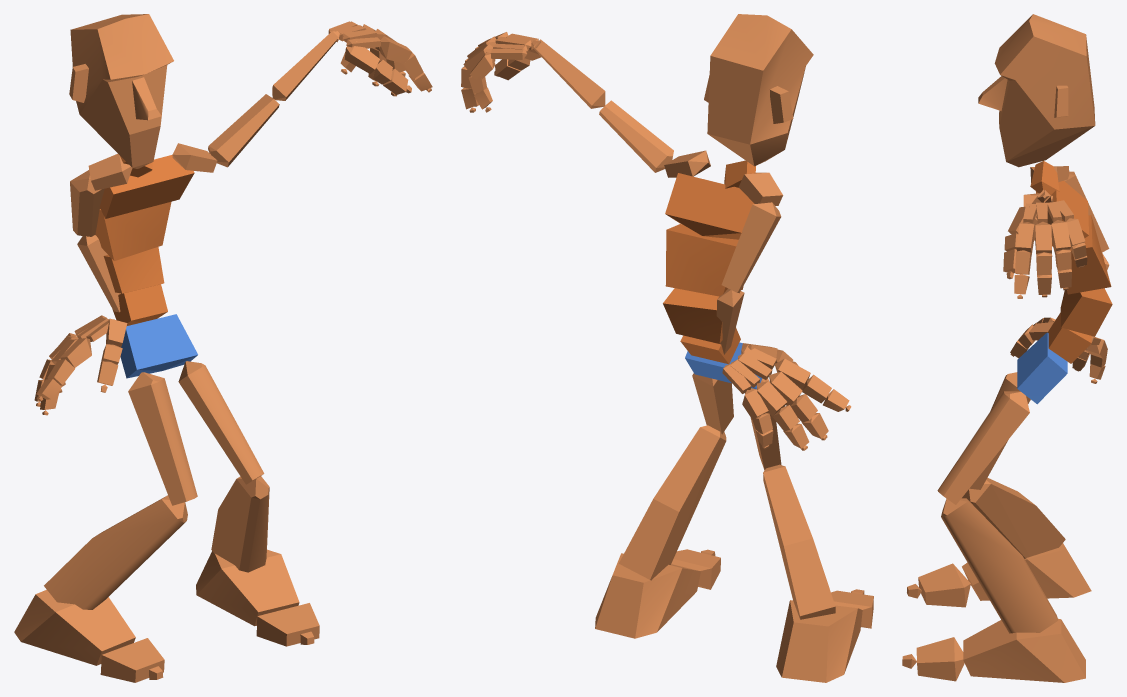
The model's file is personaje331.obj.
3 renders of one model, left to right at view 1: azimuth 30°, elevation 25°; view 2: azimuth 150°, elevation 25°; view 3: azimuth 270°, elevation 25°, orthographic. The views are drawn at different scales.
Visible parts, largest first — view 1: BOPED_Head, BOPED_R_leg, BOPED_R_foot, BOPED_R_foot01, BOPED_R_legup, BOPED_L_leg, BOPED_L_legup, Bone01, Bone05, Bone04, BOPED_L_arm_upper, BOPED_R_foot_toe01 (+9 smaller); view 2: BOPED_Head, BOPED_L_leg, BOPED_R_foot01, BOPED_R_leg, BOPED_R_foot, Bone05, Bone04, BOPED_R_arm_upper, Bone03, BOPED_L_arm_upper, BOPED_L_legup, BOPED_L_arm_fore (+8 smaller); view 3: BOPED_Head, BOPED_L_leg, BOPED_R_foot01, BOPED_R_leg, BOPED_L_legup, BOPED_R_foot, Bone01, Bone03, BOPED_R_foot_toe01, BOPED_R_foot_toe04, Bone04, Bone02 (+11 smaller).
Boxes of the visible parts, x1=… form: BOPED_Head: x1=69, y1=14, x2=173, y2=168; BOPED_R_leg: x1=44, y1=495, x2=187, y2=609; BOPED_R_foot: x1=14, y1=589, x2=135, y2=665; BOPED_R_foot01: x1=196, y1=549, x2=299, y2=626; BOPED_R_legup: x1=128, y1=372, x2=197, y2=505; BOPED_L_leg: x1=211, y1=476, x2=269, y2=572; BOPED_L_legup: x1=178, y1=361, x2=264, y2=484; Bone01: x1=120, y1=314, x2=197, y2=378; Bone05: x1=99, y1=155, x2=194, y2=218; Bone04: x1=95, y1=201, x2=171, y2=260; BOPED_L_arm_upper: x1=208, y1=94, x2=279, y2=167; BOPED_R_foot_toe01: x1=100, y1=638, x2=164, y2=682; BOPED_Head: x1=704, y1=14, x2=813, y2=166; BOPED_L_leg: x1=619, y1=425, x2=726, y2=580; BOPED_R_foot01: x1=595, y1=553, x2=700, y2=638; BOPED_R_leg: x1=763, y1=464, x2=835, y2=619; BOPED_R_foot: x1=776, y1=600, x2=862, y2=682; Bone05: x1=665, y1=173, x2=754, y2=239; Bone04: x1=665, y1=224, x2=743, y2=296; BOPED_R_arm_upper: x1=721, y1=202, x2=781, y2=293; Bone03: x1=663, y1=288, x2=722, y2=343; BOPED_L_arm_upper: x1=599, y1=100, x2=673, y2=172; BOPED_L_legup: x1=692, y1=373, x2=733, y2=434; BOPED_L_arm_fore: x1=533, y1=39, x2=605, y2=108; BOPED_Head: x1=978, y1=14, x2=1095, y2=167; BOPED_L_leg: x1=941, y1=498, x2=1058, y2=633; BOPED_R_foot01: x1=963, y1=618, x2=1085, y2=682; BOPED_R_leg: x1=962, y1=477, x2=1065, y2=558; BOPED_L_legup: x1=937, y1=391, x2=1029, y2=504; BOPED_R_foot: x1=962, y1=543, x2=1091, y2=600; Bone01: x1=1017, y1=332, x2=1067, y2=404; Bone03: x1=1060, y1=288, x2=1112, y2=336; BOPED_R_foot_toe01: x1=918, y1=563, x2=970, y2=607; BOPED_R_foot_toe04: x1=916, y1=637, x2=964, y2=681; Bone04: x1=1067, y1=215, x2=1111, y2=294; Bone02: x1=1048, y1=312, x2=1091, y2=363.
Size of the model in its own units: 117 by 175 by 56.5.
